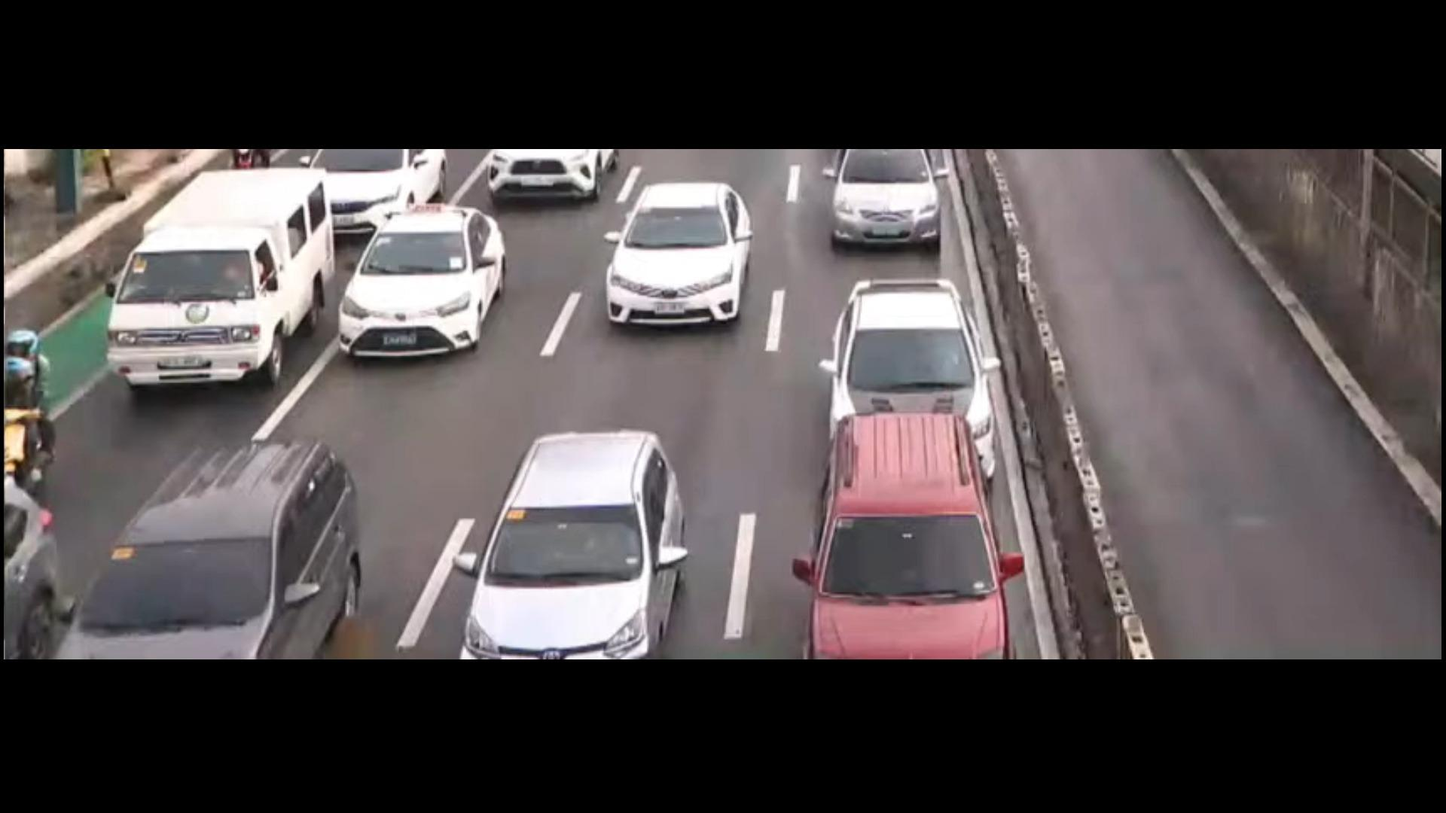Motorcycle: (0, 322, 68, 512)
Multicab: (102, 167, 332, 389)
SUV: (60, 447, 353, 654), (455, 429, 683, 661), (800, 417, 1016, 660)
Sedan: (822, 277, 996, 486), (333, 205, 505, 360), (606, 181, 748, 332), (824, 152, 942, 246)
